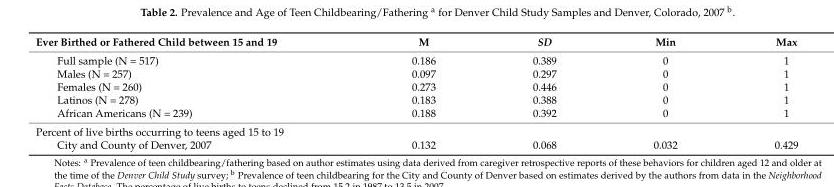table: (35, 34, 797, 150)
table column: (35, 34, 347, 150), (347, 34, 483, 150), (483, 34, 604, 150), (604, 34, 725, 150), (725, 34, 797, 150)
table column header: (35, 34, 797, 50)
table projected row header: (35, 121, 797, 137)
table row: (35, 34, 797, 50), (35, 50, 797, 66), (35, 105, 797, 121), (35, 121, 797, 137), (35, 66, 797, 79), (35, 79, 797, 92), (35, 92, 797, 105), (35, 137, 797, 150)
